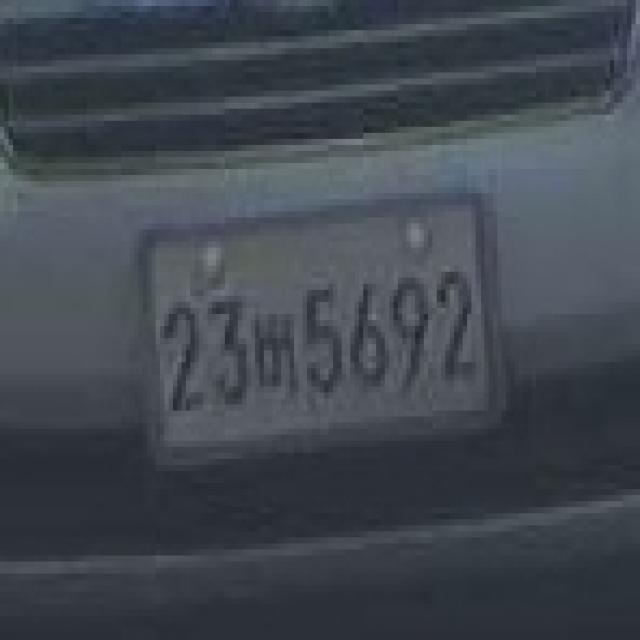2: (153, 296, 212, 429), (433, 249, 482, 391)
3: (204, 281, 255, 425)
5: (302, 274, 353, 414)
6: (351, 272, 396, 405)
9: (387, 271, 440, 407)
beo: (254, 300, 298, 407)
license_plate: (136, 192, 515, 471)
